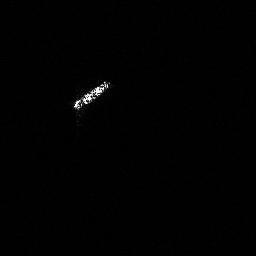ship: (70, 78, 112, 112)
